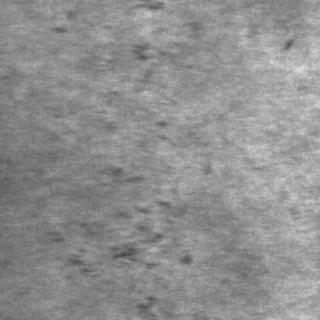rolled pit: (50, 162, 190, 300), (82, 38, 166, 146)
